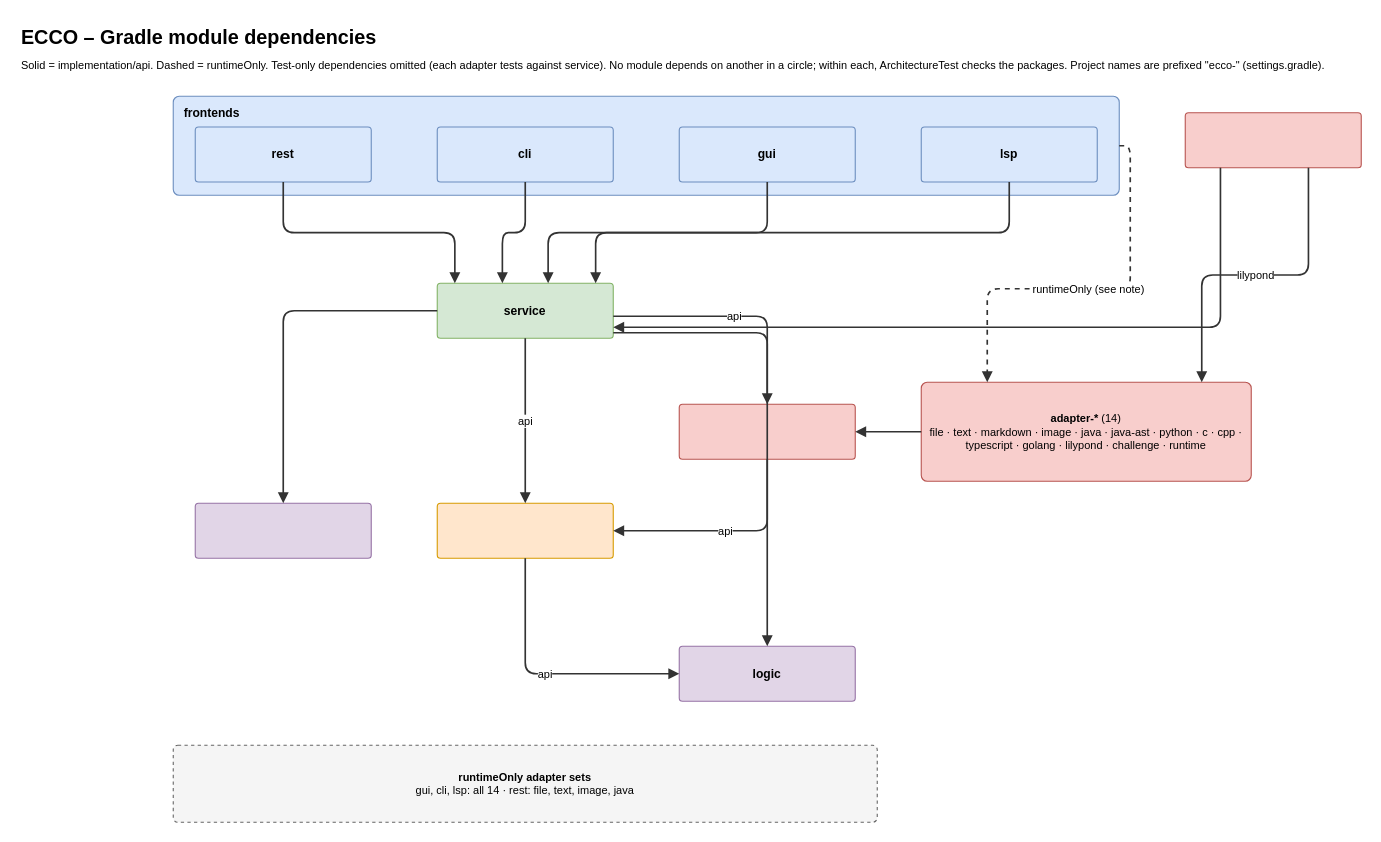
Image size: 1381x842. Some labels were removed from this diagram. The shapes that lost their labels are listed below. From the top down, each one's box as (x1, y1, x2, y2) in pixels, then its label:
(1184, 112, 1361, 168): extras-ly
(678, 403, 855, 459): adapter-api
(194, 502, 371, 558): util
(436, 502, 613, 558): base
